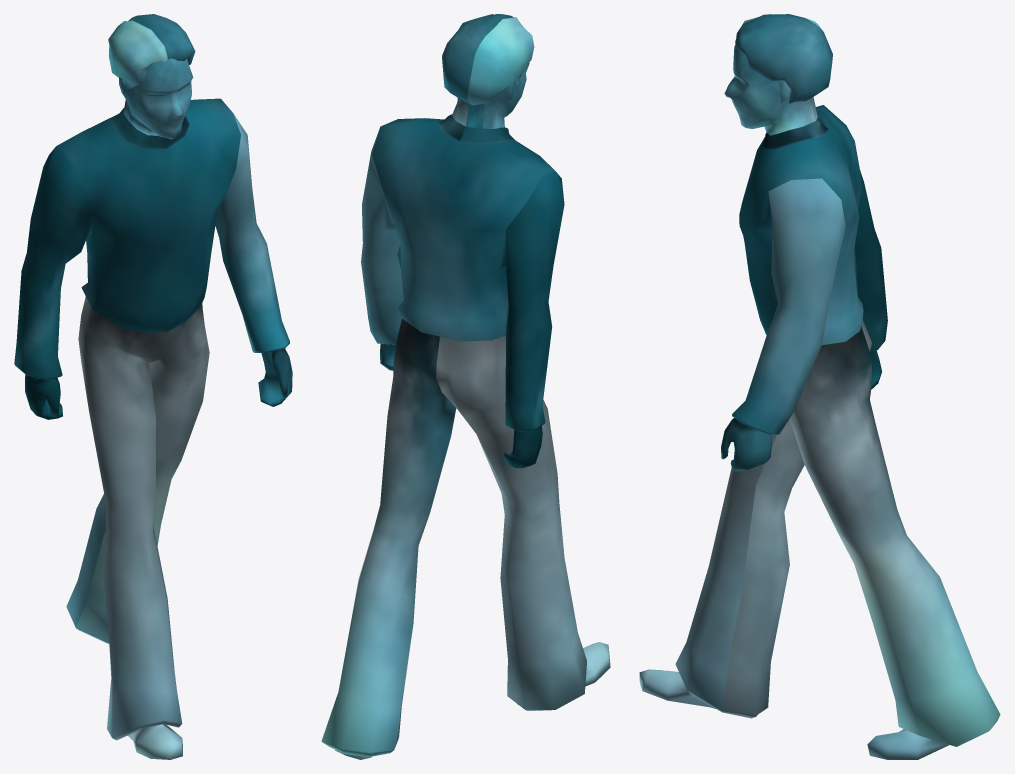
The model's file is simpleMan11.obj.
3 renders of one model, left to right at view 1: azimuth 30°, elevation 25°; view 2: azimuth 150°, elevation 25°; view 3: azimuth 270°, elevation 25°, orthographic. The views are drawn at different scales.
Parts seen in each view (by area): view 1: uomo; view 2: uomo; view 3: uomo.
Part boxes in pixels (x1,y1,x2,y2): uomo: [14, 14, 292, 759]; uomo: [321, 14, 610, 759]; uomo: [639, 14, 1000, 759].
Size of the model in its own units: 1.6 by 4.91 by 2.26.
